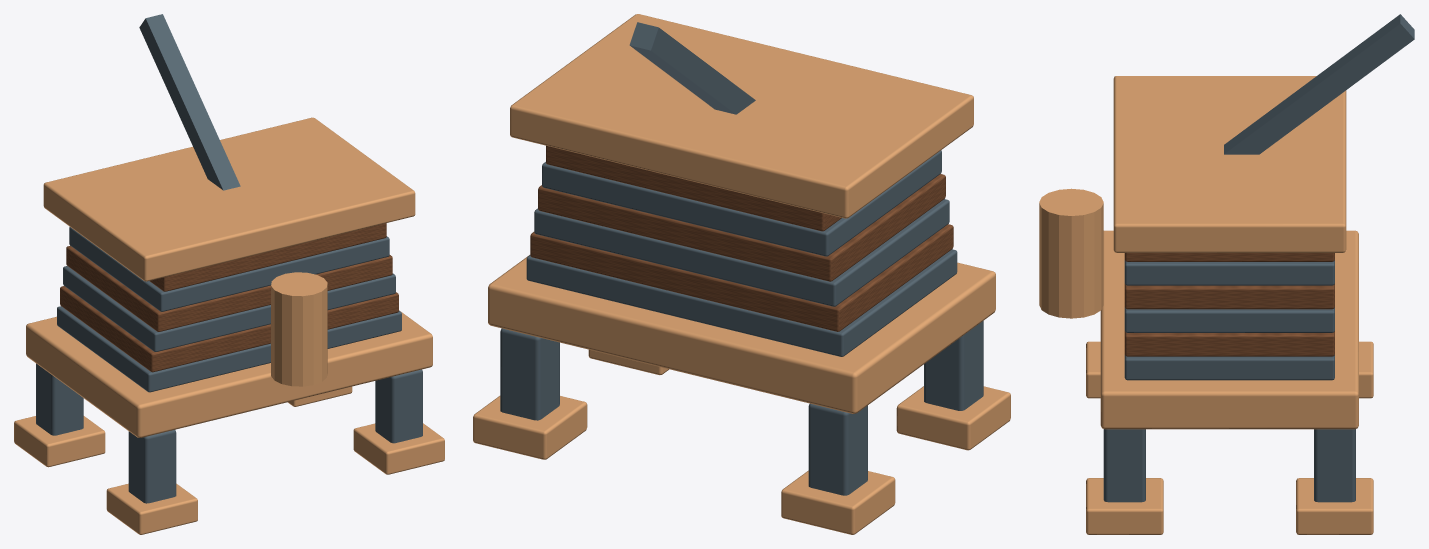
File: dwarven-runeforge-dungeon-dwarven-runeforge-dungeon-be-7e8e2c12__28596.glb
3 views of the same model, side by side, from view 1: azimuth 30°, elevation 25°; view 2: azimuth 150°, elevation 25°; view 3: azimuth 270°, elevation 25° (orthographic). The views are drawn at different scales.
Visible parts, largest first — view 1: dwarven-runeforge-dungeon-bellows; view 2: dwarven-runeforge-dungeon-bellows; view 3: dwarven-runeforge-dungeon-bellows.
Part boxes in pixels (x1,y1,x2,y2): dwarven-runeforge-dungeon-bellows: [14, 14, 444, 534]; dwarven-runeforge-dungeon-bellows: [473, 14, 1010, 534]; dwarven-runeforge-dungeon-bellows: [1039, 14, 1414, 534].
Bounding box in the file's own units: 1.24 × 1.48 × 1.16.
Materials: 3 (1 with a texture image).
